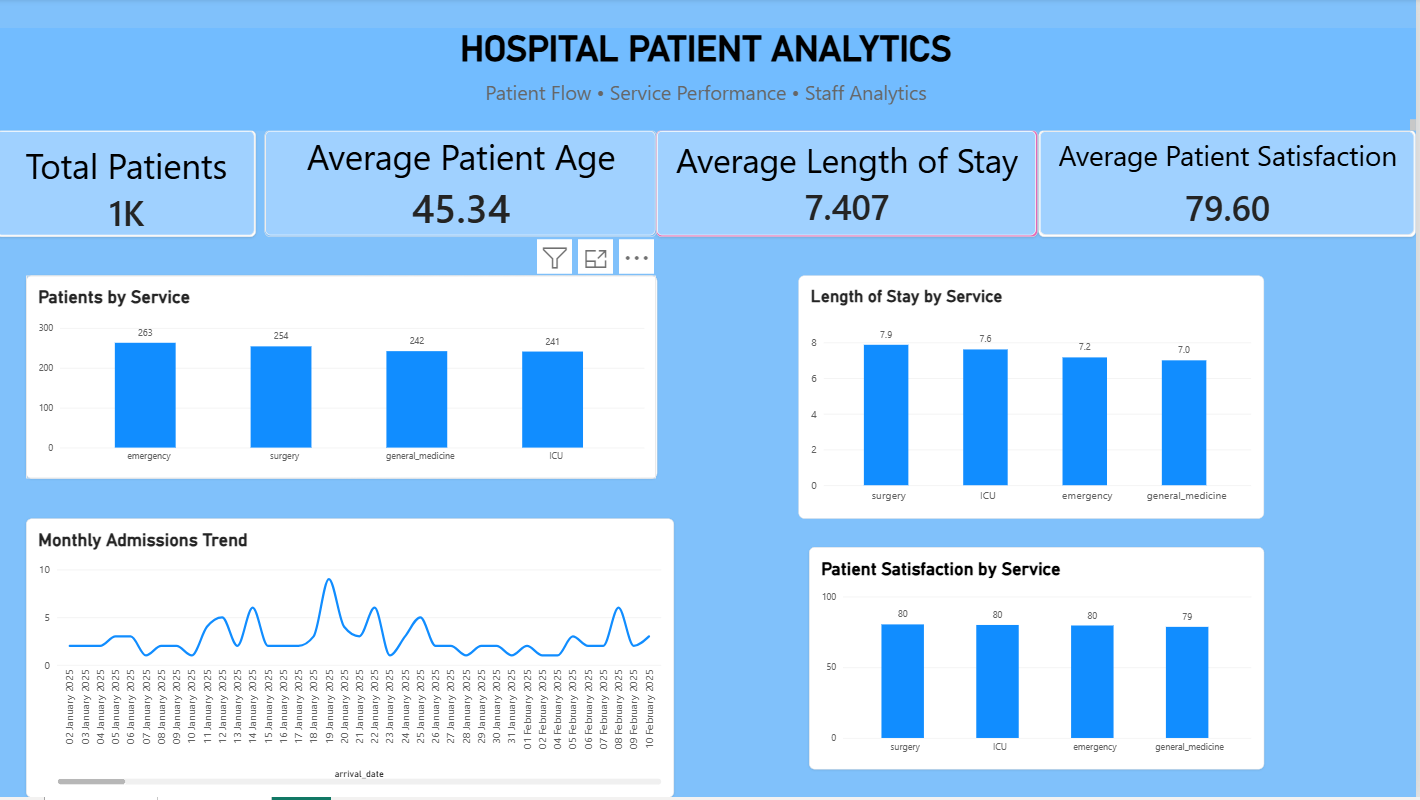

What the dashboard file says about the page in this screenshot:
{"tool":"powerbi","page":{"name":"Page 1","canvas":[1920,1080],"ordinal":0},"visuals":[{"type":"cardVisual","fields":{"Data":["Dim_Service.Total Patients"]},"box":[0,178.6,351.5,144.6],"z":1000},{"type":"cardVisual","fields":{"Data":["Dim_Service.Average Patient Age"]},"box":[362.8,178.6,530.1,144.6],"z":2000},{"type":"cardVisual","fields":{"Data":["Dim_Service.Average Length of Stay"]},"box":[892.9,178.6,515.9,144.6],"z":3000},{"type":"cardVisual","fields":{"Data":["Dim_Service.Average Patient Satisfaction"]},"box":[1408.8,178.6,510.2,144.6],"z":4000},{"type":"clusteredColumnChart","title":"Patients by Service","fields":{"Category":["Dim_Service.service"],"Y":["CountNonNull(hospital_analytics patients.patient_id)"]},"box":[39.7,374.2,853.2,275],"z":5000},{"type":"clusteredColumnChart","title":"Length of Stay by Service","fields":{"Category":["Dim_Service.service"],"Y":["Dim_Service.Average Length of Stay"]},"box":[1085.7,374.2,629.3,328.8],"z":6000},{"type":"clusteredColumnChart","title":"Patient Satisfaction by Service","fields":{"Category":["Dim_Service.service"],"Y":["Dim_Service.Average Patient Satisfaction"]},"box":[1099.9,742.7,615.1,300.5],"z":7000},{"type":"lineChart","title":"Monthly Admissions Trend","fields":{"Category":["hospital_analytics patients.arrival_date"],"Y":["CountNonNull(hospital_analytics patients.patient_id)"]},"box":[39.7,703,875.9,377],"z":8000},{"type":"textbox","title":"HOSPITAL PATIENT ANALYTICS","box":[0,39.6,1919.3,138.5],"z":11500}]}

Visuals, with their boxes in screenshot pixels (x1, y1, x2, y2), scaled from the page's 1920x1080 canvas onto the 1420x800 screenshot:
cardVisual - Dim_Service.Total Patients: locate(0, 132, 260, 239)
cardVisual - Dim_Service.Average Patient Age: locate(268, 132, 660, 239)
cardVisual - Dim_Service.Average Length of Stay: locate(660, 132, 1042, 239)
cardVisual - Dim_Service.Average Patient Satisfaction: locate(1042, 132, 1419, 239)
"Patients by Service" clusteredColumnChart: locate(29, 277, 660, 481)
"Length of Stay by Service" clusteredColumnChart: locate(803, 277, 1268, 521)
"Patient Satisfaction by Service" clusteredColumnChart: locate(813, 550, 1268, 773)
"Monthly Admissions Trend" lineChart: locate(29, 521, 677, 799)
"HOSPITAL PATIENT ANALYTICS" textbox: locate(0, 29, 1419, 132)
